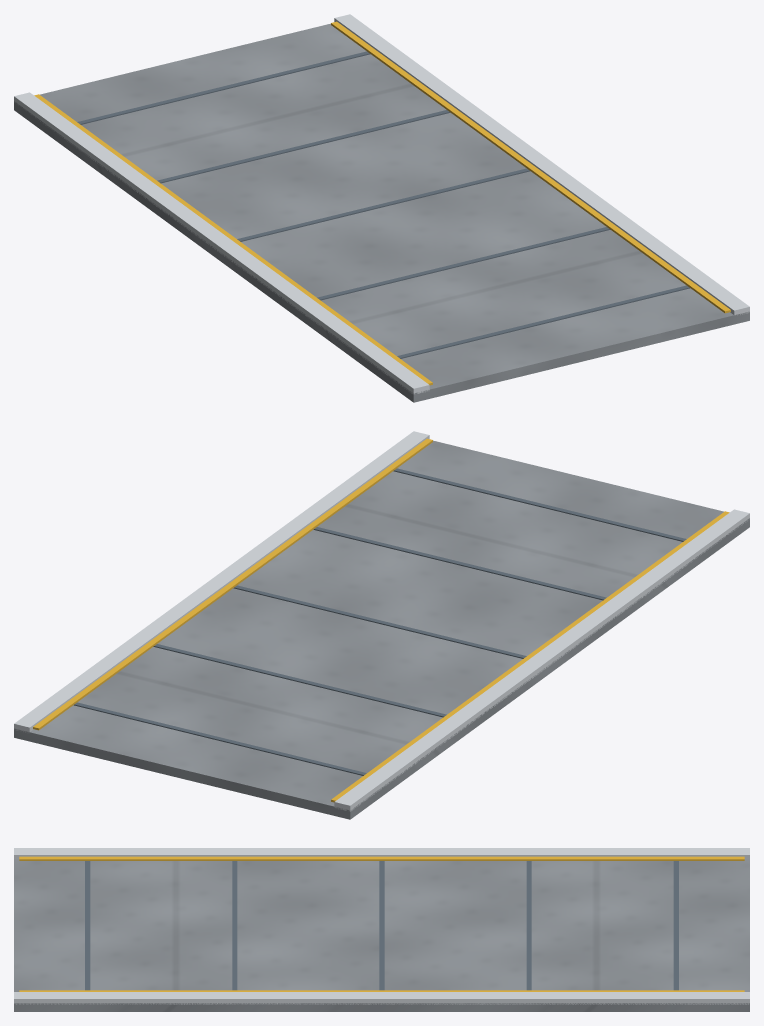
The model's file is ENERGY-003.glb.
The picture shows the model from 3 angles, top to bottom: view 1: azimuth 30°, elevation 25°; view 2: azimuth 150°, elevation 25°; view 3: azimuth 270°, elevation 25°; orthographic projection. The views are drawn at different scales.
Parts seen in each view (by area): view 1: ENERGY-003; view 2: ENERGY-003; view 3: ENERGY-003.
Part boxes in pixels (x1=…): ENERGY-003: x1=14, y1=14, x2=749, y2=402; ENERGY-003: x1=14, y1=431, x2=749, y2=819; ENERGY-003: x1=14, y1=848, x2=749, y2=1011.
Bounding box in the file's own units: 3.4 × 0.135 × 7.
Materials: 4 (1 with a texture image).
